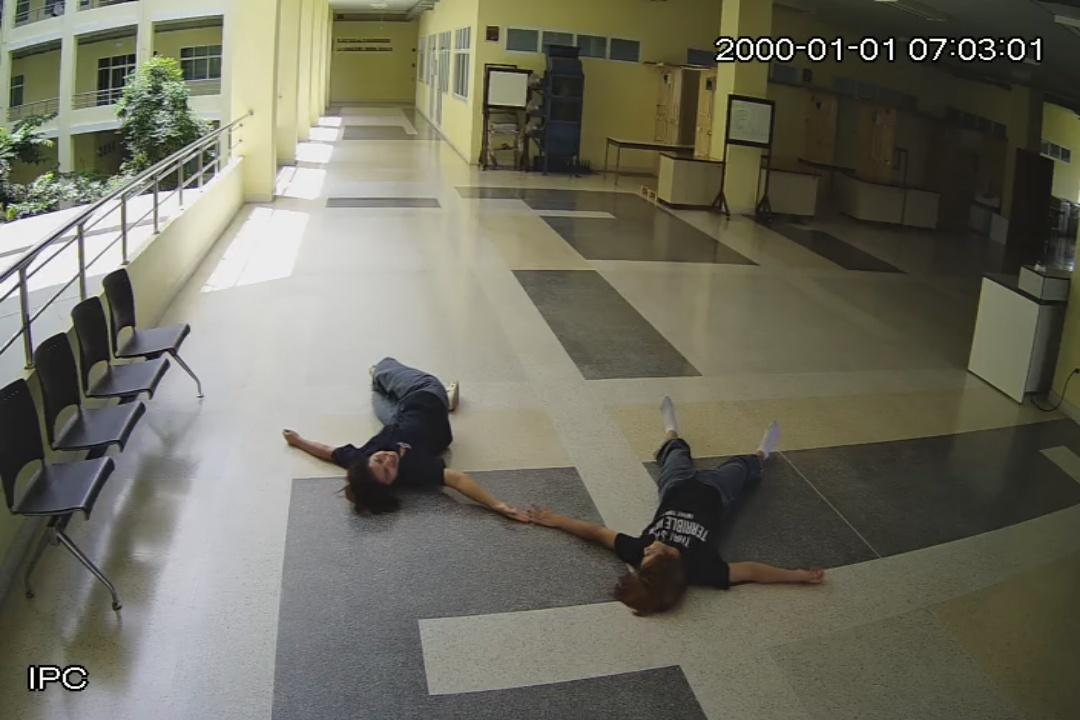fall: (528, 395, 826, 610), (284, 358, 530, 528)
